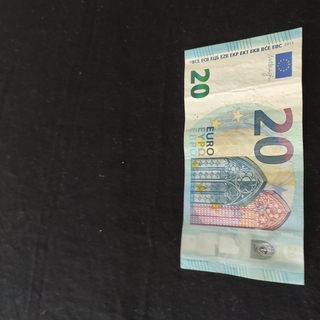20EUROFront: (179, 26, 305, 286)
